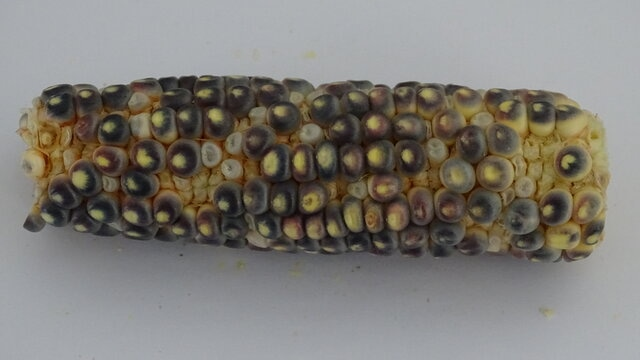corn: (554, 144, 593, 180)
